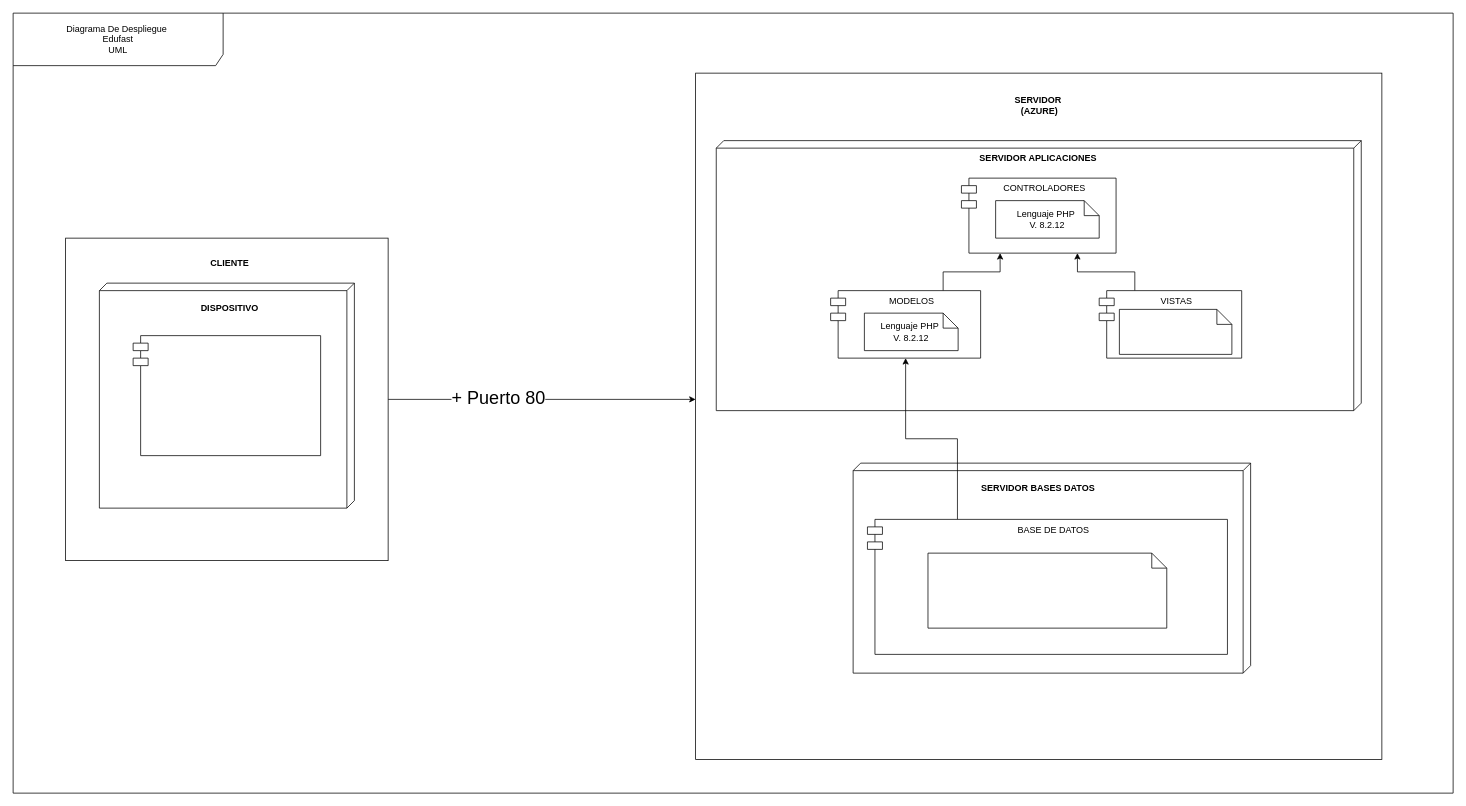
This 1466x806 diagram has some shape labels left out. The centre of each missing label's shape, as x and y in pixels:
Html, css, js, Boostrap: the point at 1175,331
MySql V.8.4.4: the point at 1047,590
NAVEGADOR - Chrome 87+ - Firefox 78+ - Edge 87+ - Brave 1.17+: the point at 226,395
